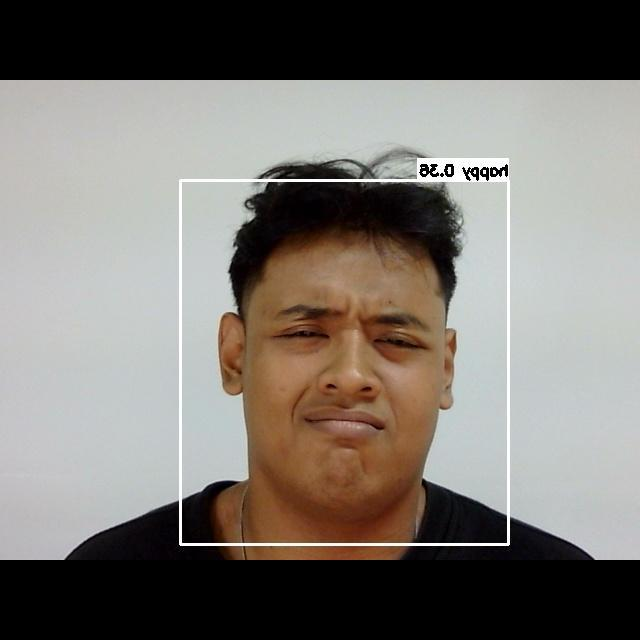Disgust: (251, 269, 453, 476)
